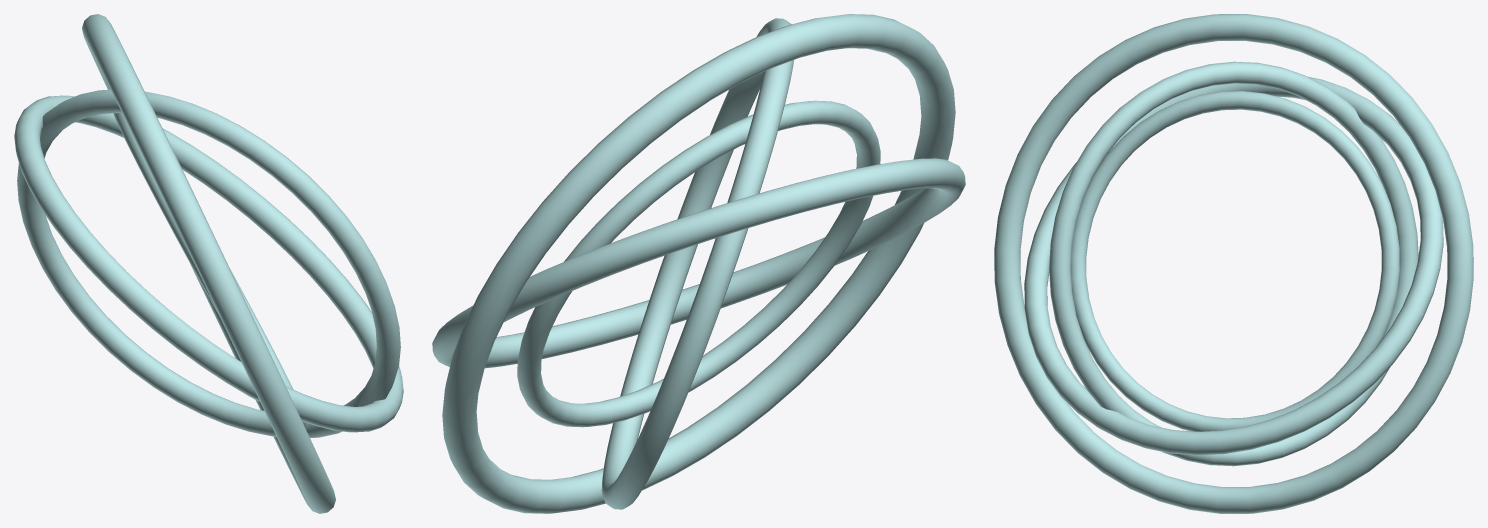
File: sm_GoalOrb.fbx
The picture shows the model from 3 angles, left to right: view 1: azimuth 30°, elevation 25°; view 2: azimuth 150°, elevation 25°; view 3: azimuth 270°, elevation 25°; orthographic projection. The views are drawn at different scales.
Parts seen in each view (by area): view 1: sm_GoalOrb; view 2: sm_GoalOrb; view 3: sm_GoalOrb.
Part boxes in pixels (x1=…): sm_GoalOrb: x1=14, y1=14, x2=403, y2=513; sm_GoalOrb: x1=432, y1=14, x2=965, y2=513; sm_GoalOrb: x1=994, y1=14, x2=1473, y2=513.
Bounding box in the file's own units: 71.52 × 88.35 × 91.5.
